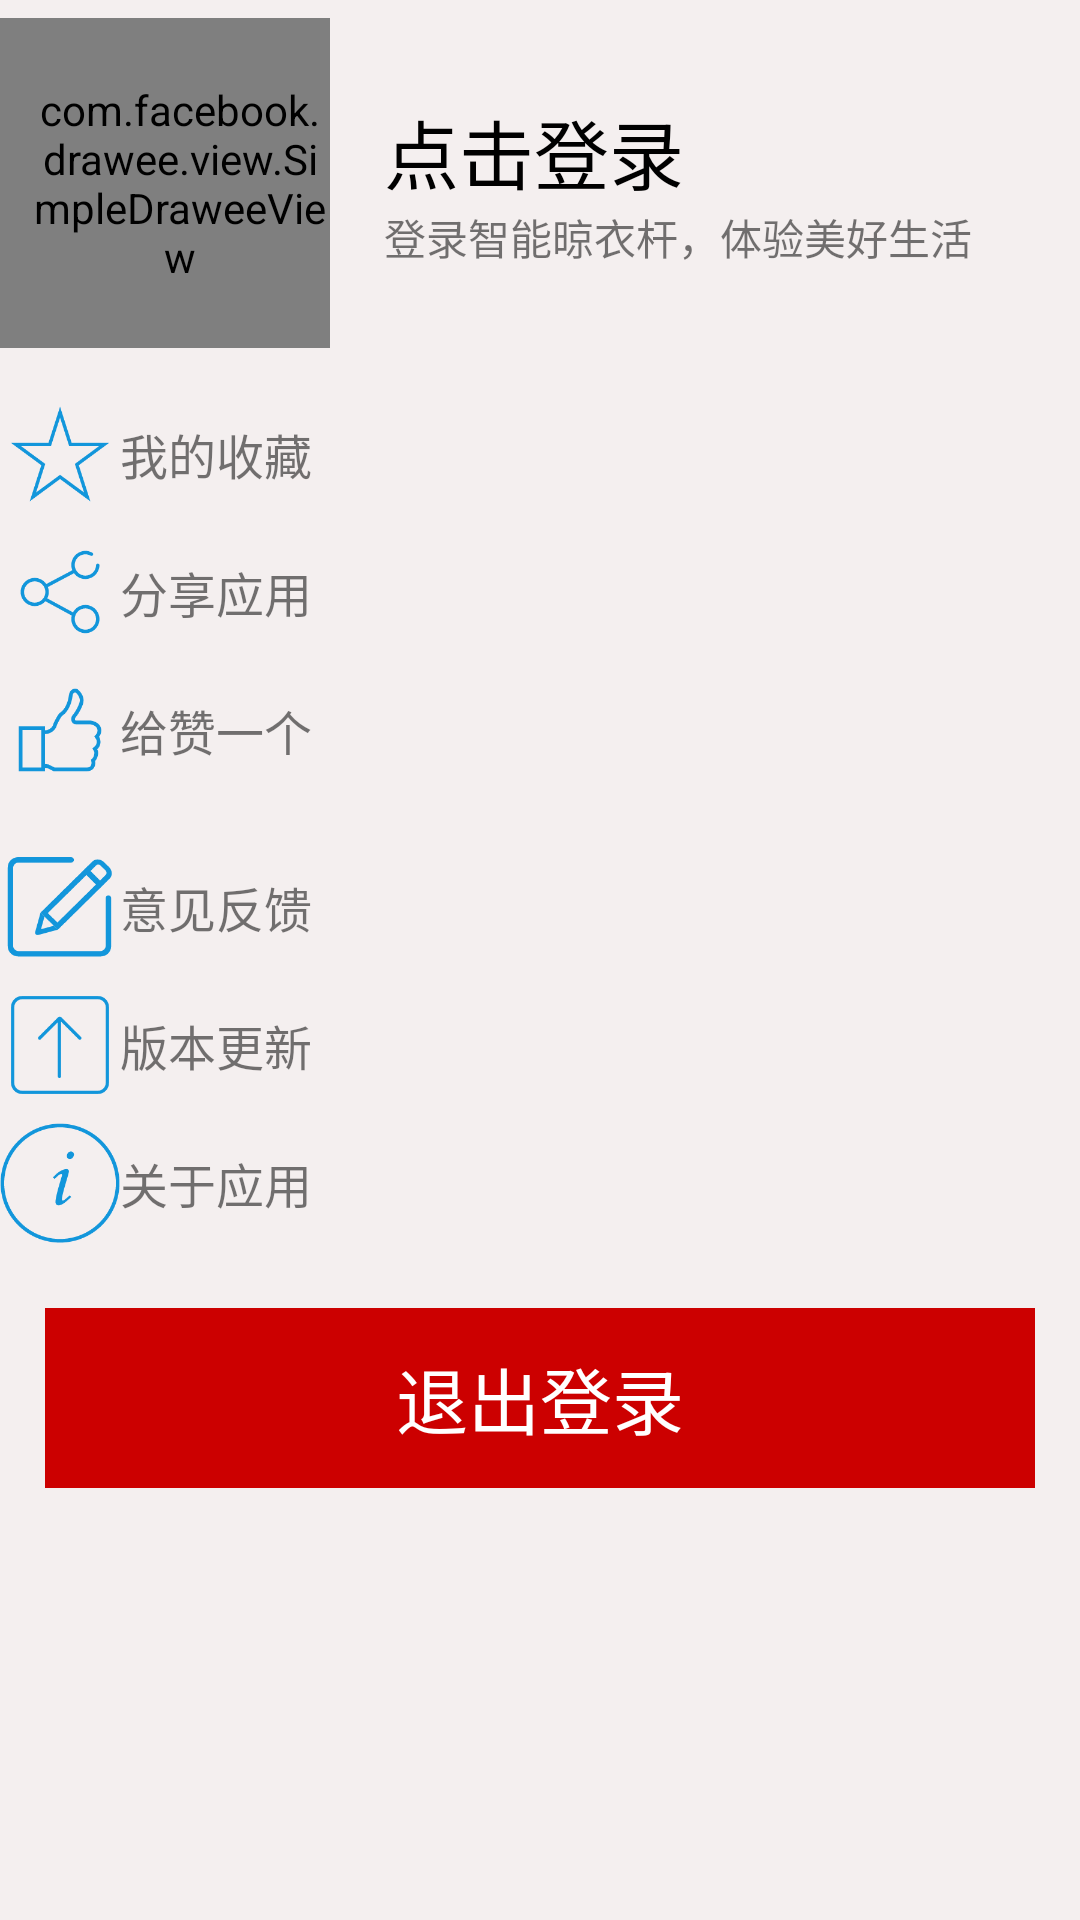

Icons on this 1080 × 1920 Android screen, each with its box as (x1, y1, x2, y2):
collect: (11, 407, 109, 501)
fankui: (7, 857, 112, 957)
gengxin: (11, 996, 109, 1094)
guanyu: (0, 1123, 120, 1243)
share: (20, 550, 100, 634)
zan: (18, 688, 102, 772)
